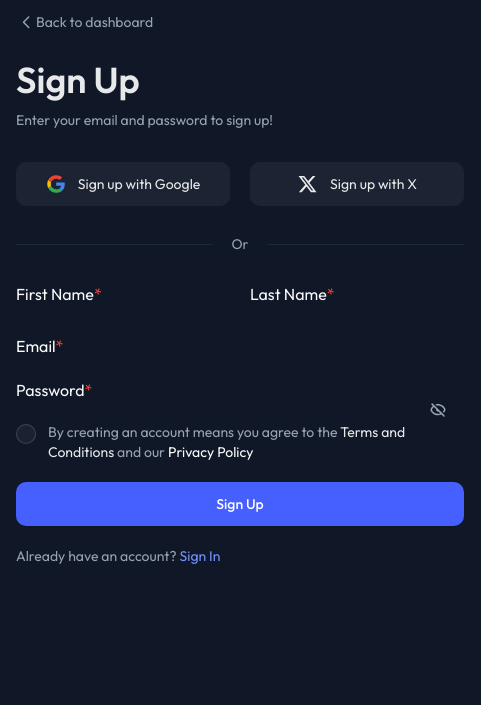
Test: SignUpForm › shows validation errors when submitting empty form
Click the button "Sign Up" at coordinates (240, 504), box [16,482,464,526]
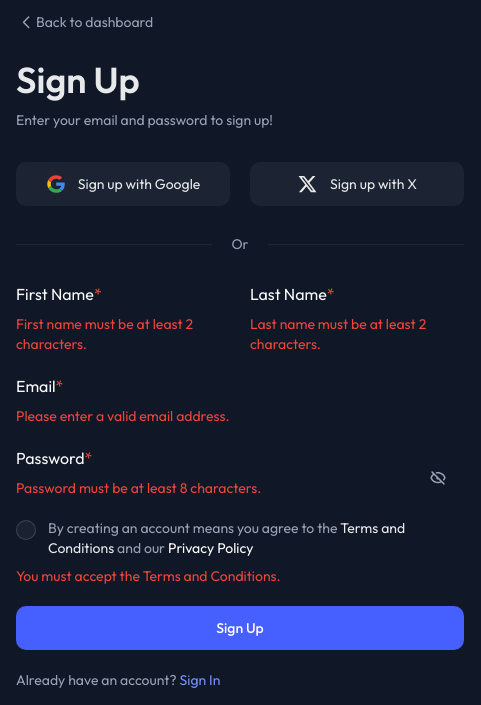
expect the text "First name must be at least 2 characters." is shown: met, box [16,315,193,353]
expect the text "Last name must be at least 2 characters." is shown: met, box [250,315,426,353]
expect the text "Please enter a valid email address." is shown: met, box [16,407,230,425]
